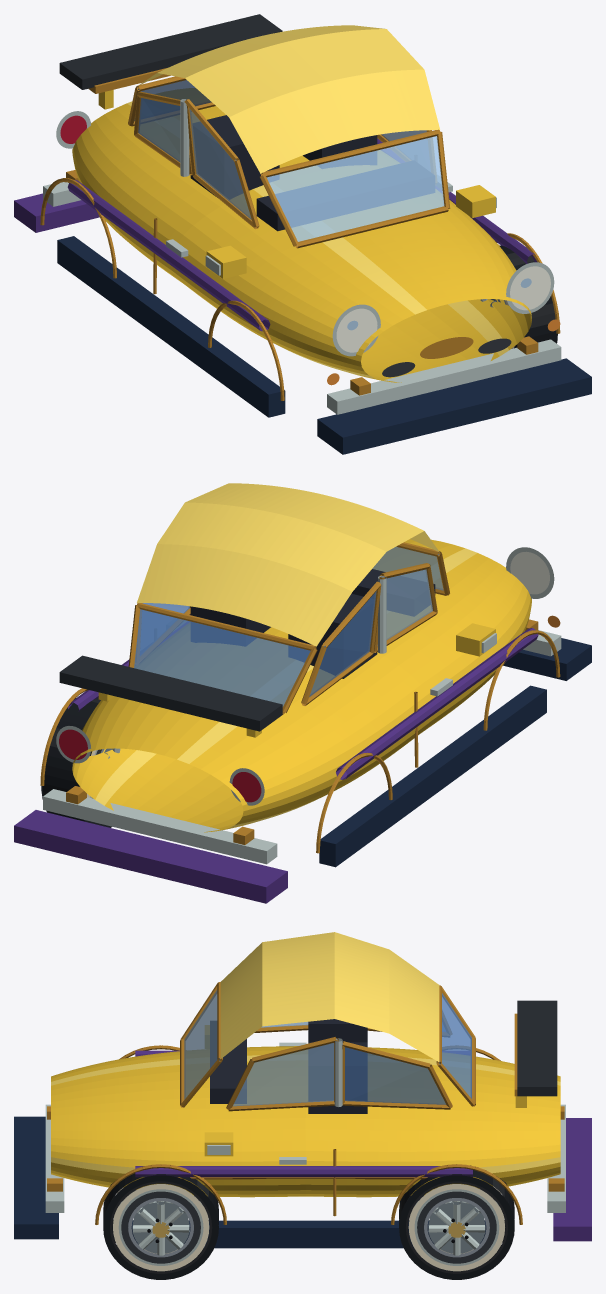
Rendered from yellow_beetle_complete_midnight.obj.
The picture shows the model from 3 angles, top to bottom: view 1: azimuth 30°, elevation 25°; view 2: azimuth 150°, elevation 25°; view 3: azimuth 270°, elevation 25°; orthographic projection. The views are drawn at different scales.
Parts seen in each view (by area): view 1: SCULPTED_MAIN_BODY, BUBBLE_ROOF, WINDSHIELD, MIDNIGHT_SPLITTER, DARK_SIDE_SKIRTS, DASHBOARD, NIGHT_WING, CHROME_BUMPERS, SEATS, NIGHT_ACCENT, GLASS_SEALS, ROUND_HEADLAMPS (+14 smaller); view 2: SCULPTED_MAIN_BODY, BUBBLE_ROOF, REAR_GUARD, REAR_WINDOW, DARK_SIDE_SKIRTS, NIGHT_WING, CHROME_BUMPERS, SEATS, REAR_SIDE_WINDOW, NIGHT_ACCENT, GLASS_TRIM, GLASS_SEALS (+11 smaller); view 3: SCULPTED_MAIN_BODY, BUBBLE_ROOF, WHEEL_SIDE, DARK_SIDE_SKIRTS, DRIVER_WINDOW, MIDNIGHT_SPLITTER, SEATS, REAR_SIDE_WINDOW, NIGHT_WING, NIGHT_ACCENT, REAR_GUARD, GLASS_TRIM (+13 smaller).
Boxes of the visible parts, x1,y1,x2,y2 form: SCULPTED_MAIN_BODY: [72, 88, 531, 382]; BUBBLE_ROOF: [138, 25, 439, 173]; WINDSHIELD: [266, 136, 444, 241]; MIDNIGHT_SPLITTER: [317, 358, 591, 454]; DARK_SIDE_SKIRTS: [57, 236, 285, 417]; DASHBOARD: [256, 161, 434, 231]; NIGHT_WING: [59, 14, 282, 89]; CHROME_BUMPERS: [43, 182, 561, 414]; SEATS: [190, 115, 377, 199]; NIGHT_ACCENT: [67, 138, 537, 331]; GLASS_SEALS: [128, 76, 450, 248]; ROUND_HEADLAMPS: [332, 262, 554, 356]; SCULPTED_MAIN_BODY: [72, 539, 531, 832]; BUBBLE_ROOF: [137, 483, 439, 646]; REAR_GUARD: [14, 810, 287, 903]; REAR_WINDOW: [134, 609, 310, 706]; DARK_SIDE_SKIRTS: [79, 685, 546, 867]; NIGHT_WING: [59, 655, 282, 731]; CHROME_BUMPERS: [43, 630, 561, 864]; SEATS: [190, 593, 377, 678]; REAR_SIDE_WINDOW: [140, 591, 376, 696]; NIGHT_ACCENT: [68, 614, 538, 779]; GLASS_TRIM: [135, 563, 437, 705]; GLASS_SEALS: [128, 542, 449, 714]; SCULPTED_MAIN_BODY: [51, 1046, 560, 1197]; BUBBLE_ROOF: [220, 932, 439, 1061]; WHEEL_SIDE: [103, 1175, 514, 1279]; DARK_SIDE_SKIRTS: [131, 1220, 486, 1248]; DRIVER_WINDOW: [233, 1021, 336, 1106]; MIDNIGHT_SPLITTER: [14, 1116, 58, 1239]; SEATS: [308, 1019, 367, 1113]; REAR_SIDE_WINDOW: [342, 1024, 446, 1104]; NIGHT_WING: [517, 1000, 557, 1096]; NIGHT_ACCENT: [135, 1050, 472, 1177]; REAR_GUARD: [553, 1118, 591, 1241]; GLASS_TRIM: [226, 1011, 452, 1111].
Size of the model in its own units: 1.85 by 1.74 by 3.6.
